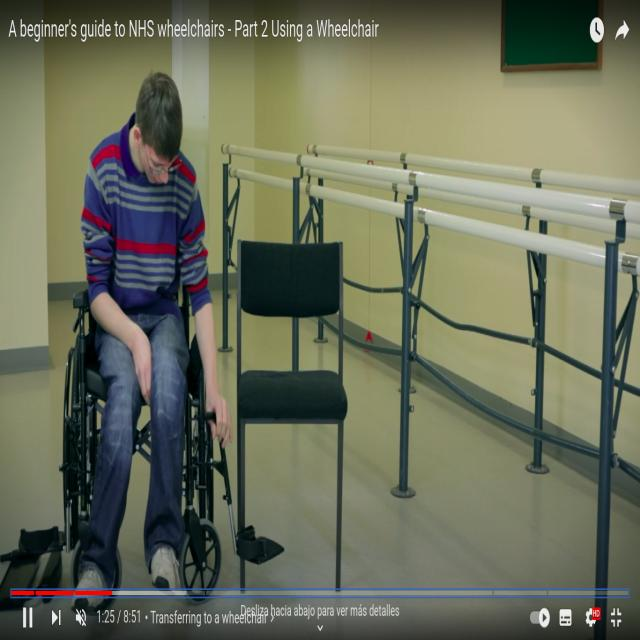wheelchairs: (58, 288, 219, 584)
